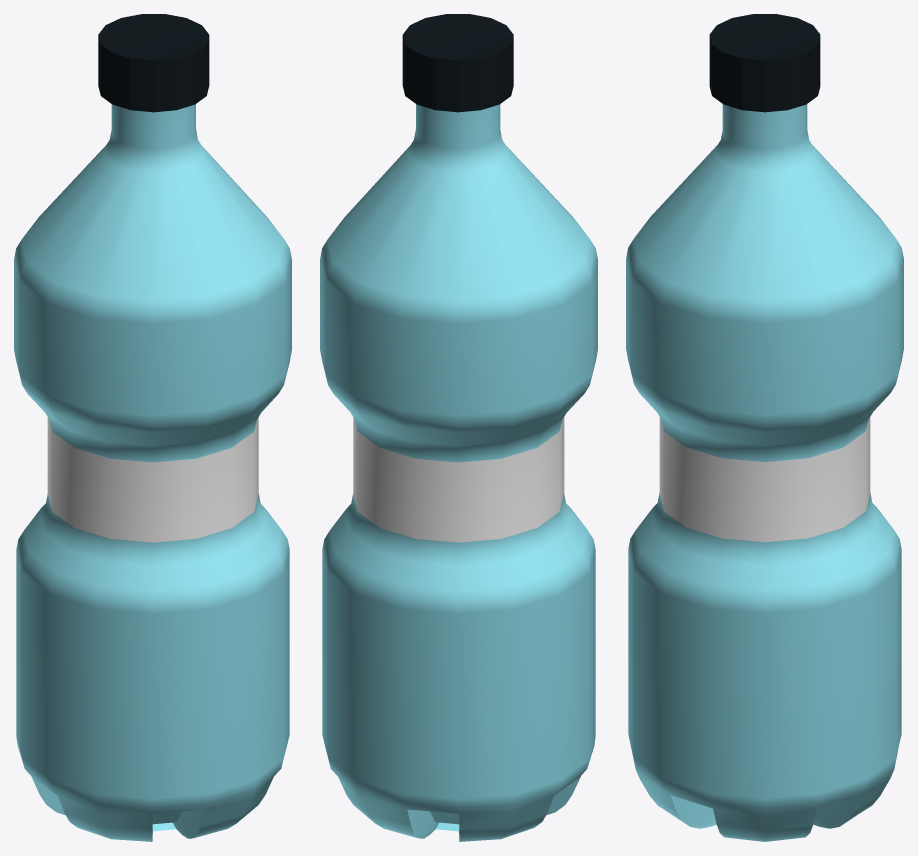
File: 03_WATER_BOTTLE.fbx
3 views of the same model, side by side, from view 1: azimuth 30°, elevation 25°; view 2: azimuth 150°, elevation 25°; view 3: azimuth 270°, elevation 25° (orthographic).
Visible parts, largest first — view 1: WATER; view 2: WATER; view 3: WATER.
Part boxes in pixels (box(x1,y1,x2,y2)): WATER: box(14, 14, 291, 841); WATER: box(320, 14, 597, 841); WATER: box(626, 14, 903, 841).
Size of the model in its own units: 13.5 by 41.5 by 13.57.
